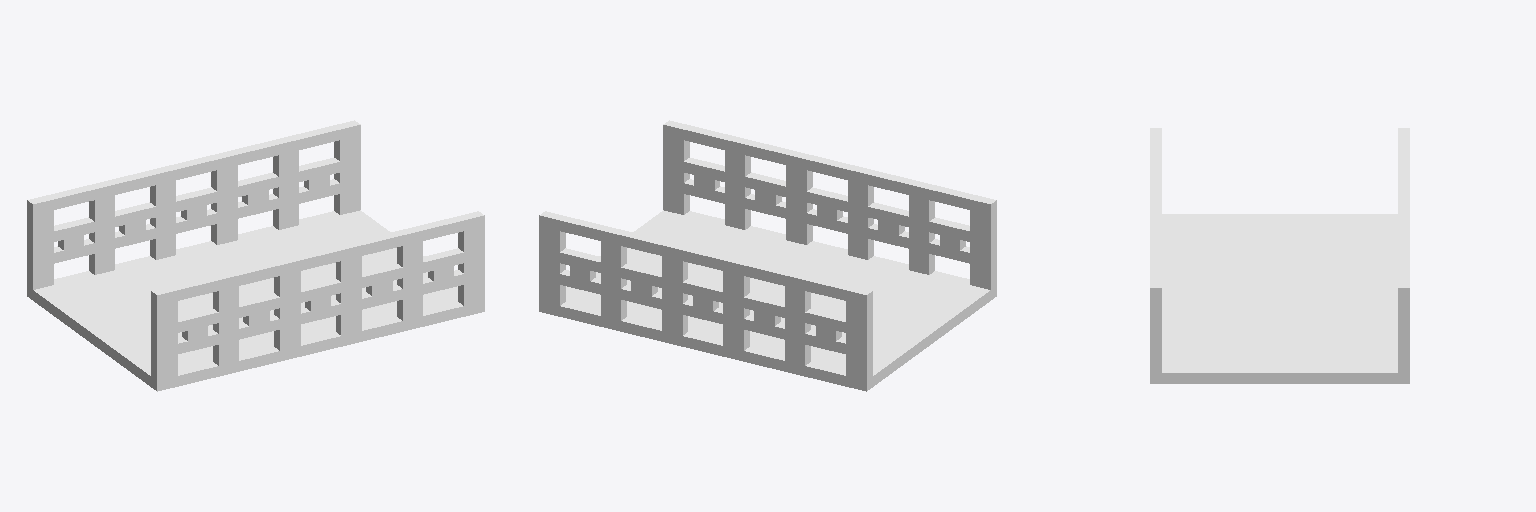
The model's file is bridge.obj.
The picture shows the model from 3 angles: view 1: azimuth 30°, elevation 25°; view 2: azimuth 150°, elevation 25°; view 3: azimuth 270°, elevation 25°; orthographic projection.
Visible parts, largest first — view 1: object 1; view 2: object 1; view 3: object 1.
Part boxes in pixels (bbox=[...]): object 1: bbox=[27, 120, 484, 391]; object 1: bbox=[539, 120, 996, 391]; object 1: bbox=[1150, 128, 1409, 383].
Size of the model in its own units: 3.2 by 0.9 by 2.2.